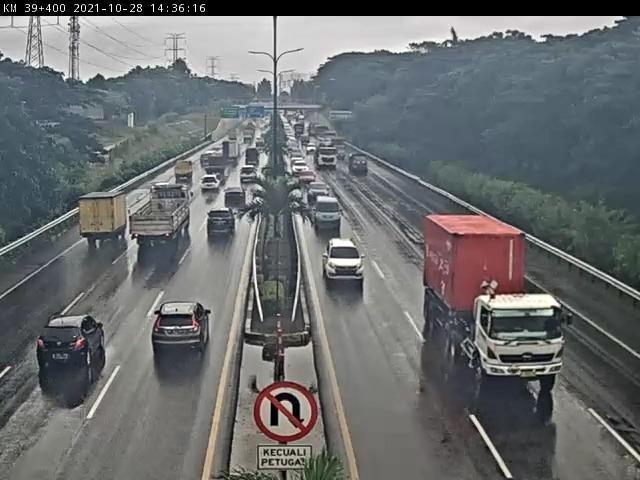car: (37, 315, 107, 372), (152, 301, 210, 358), (324, 235, 366, 285), (205, 206, 238, 241), (313, 198, 345, 233), (222, 186, 250, 208), (235, 166, 259, 188), (308, 182, 332, 204), (199, 174, 224, 194), (298, 168, 318, 187)
truck: (425, 212, 565, 392), (124, 186, 191, 254), (78, 194, 130, 249), (174, 158, 197, 181)
